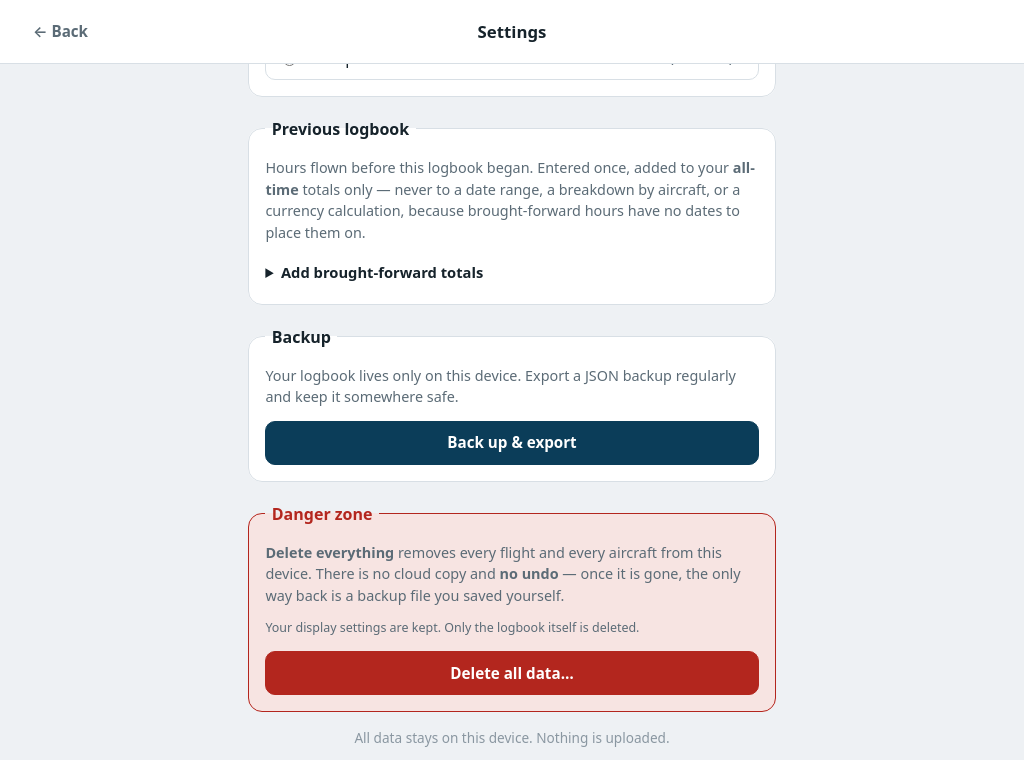
Test case: confirming it › empties the logbook and reports what went
(page scrolled)
Click the button "Delete all data…" at (512, 673), box [265, 651, 759, 695]
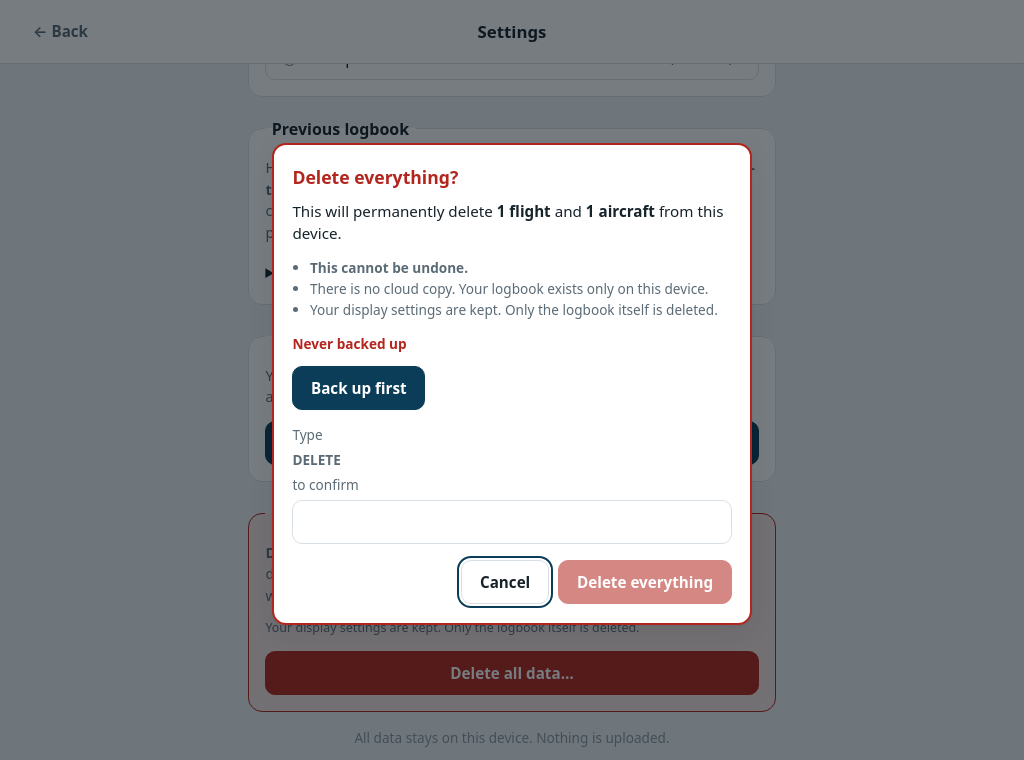
Type "DELETE" into the field labelled "Type DELETE to confirm" at (512, 522), box [292, 500, 732, 544]
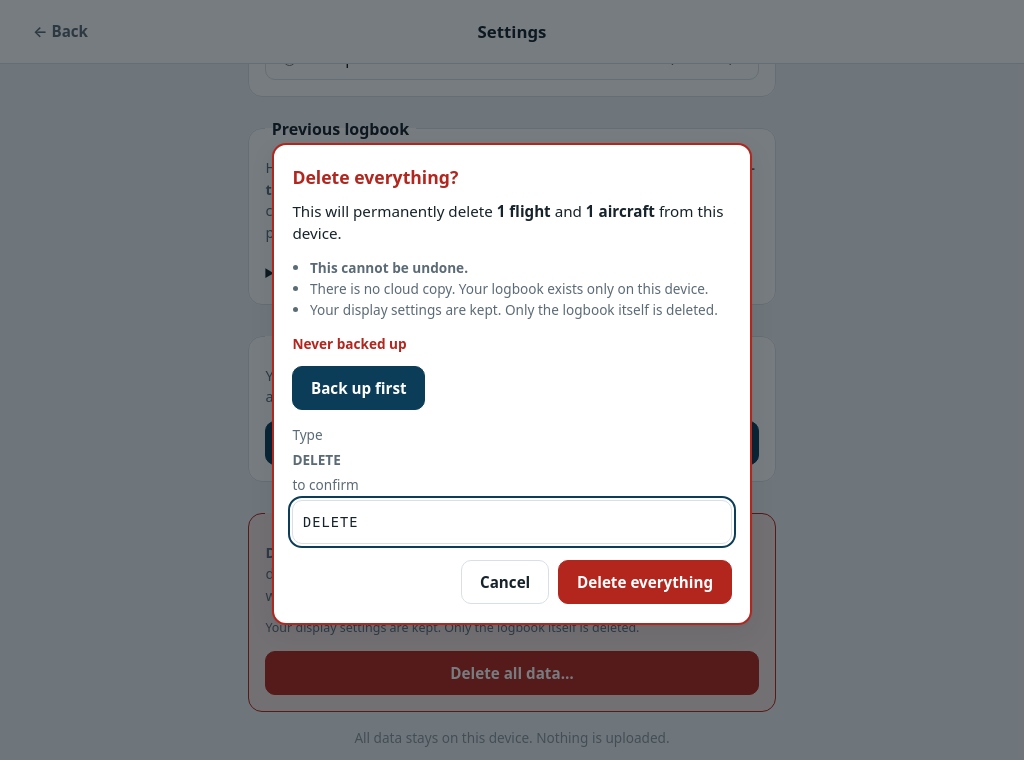
Click the button "Delete everything" at (645, 582), box [558, 560, 732, 604]
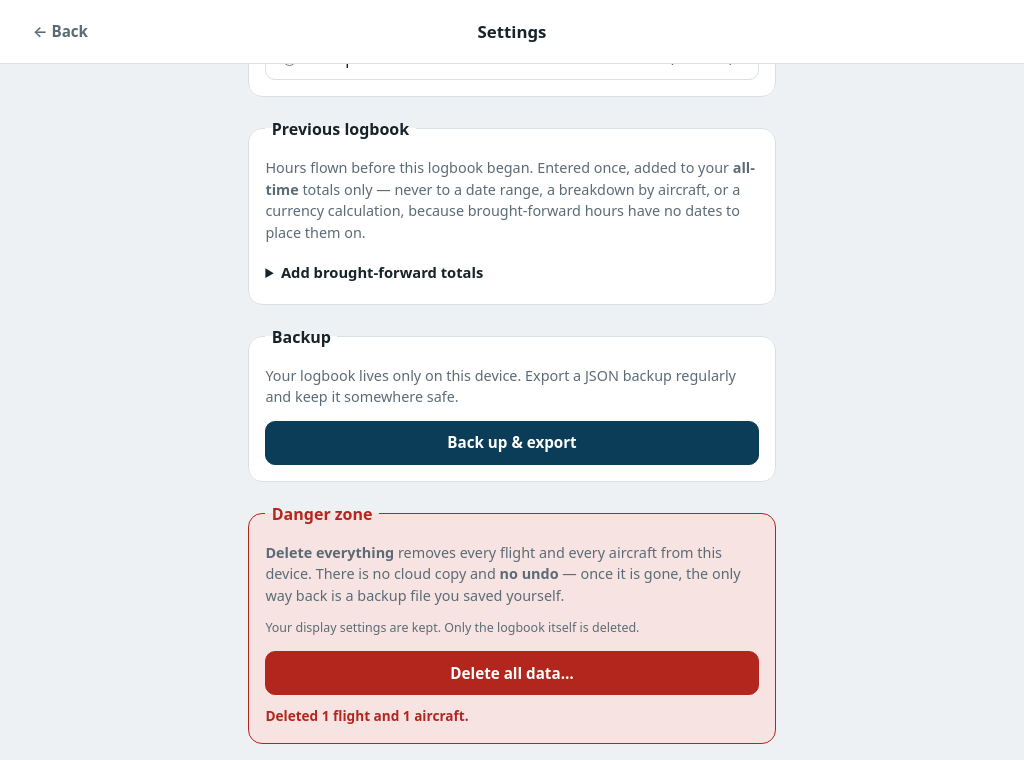
Now the text "Deleted 1 flight and 1 aircraft." is shown, box [265, 706, 469, 725]
